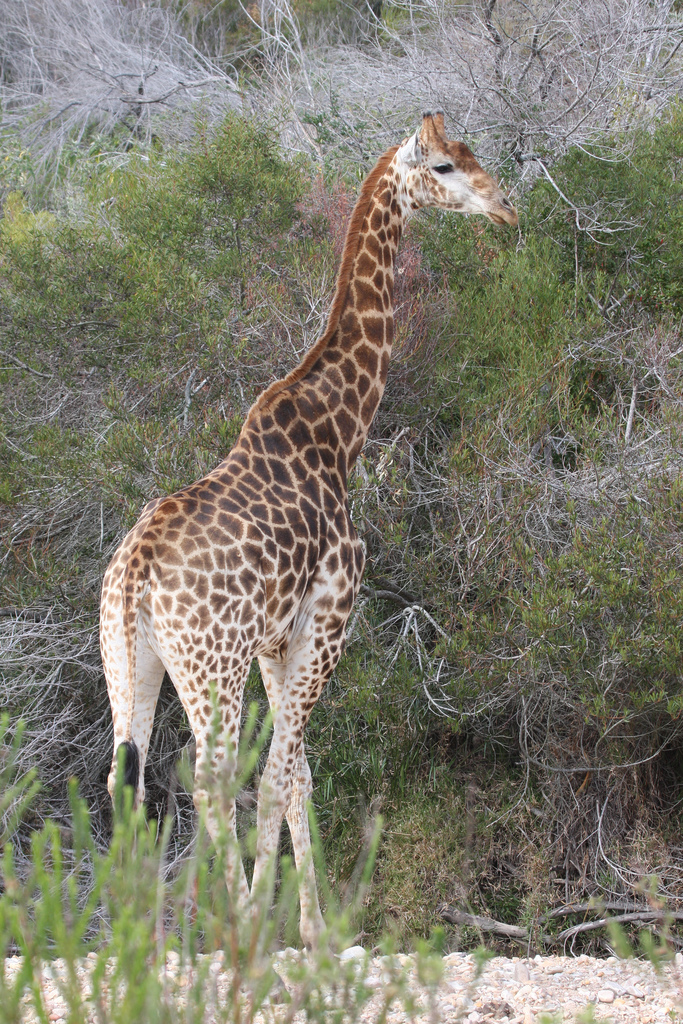giraffe: (68, 95, 546, 959)
